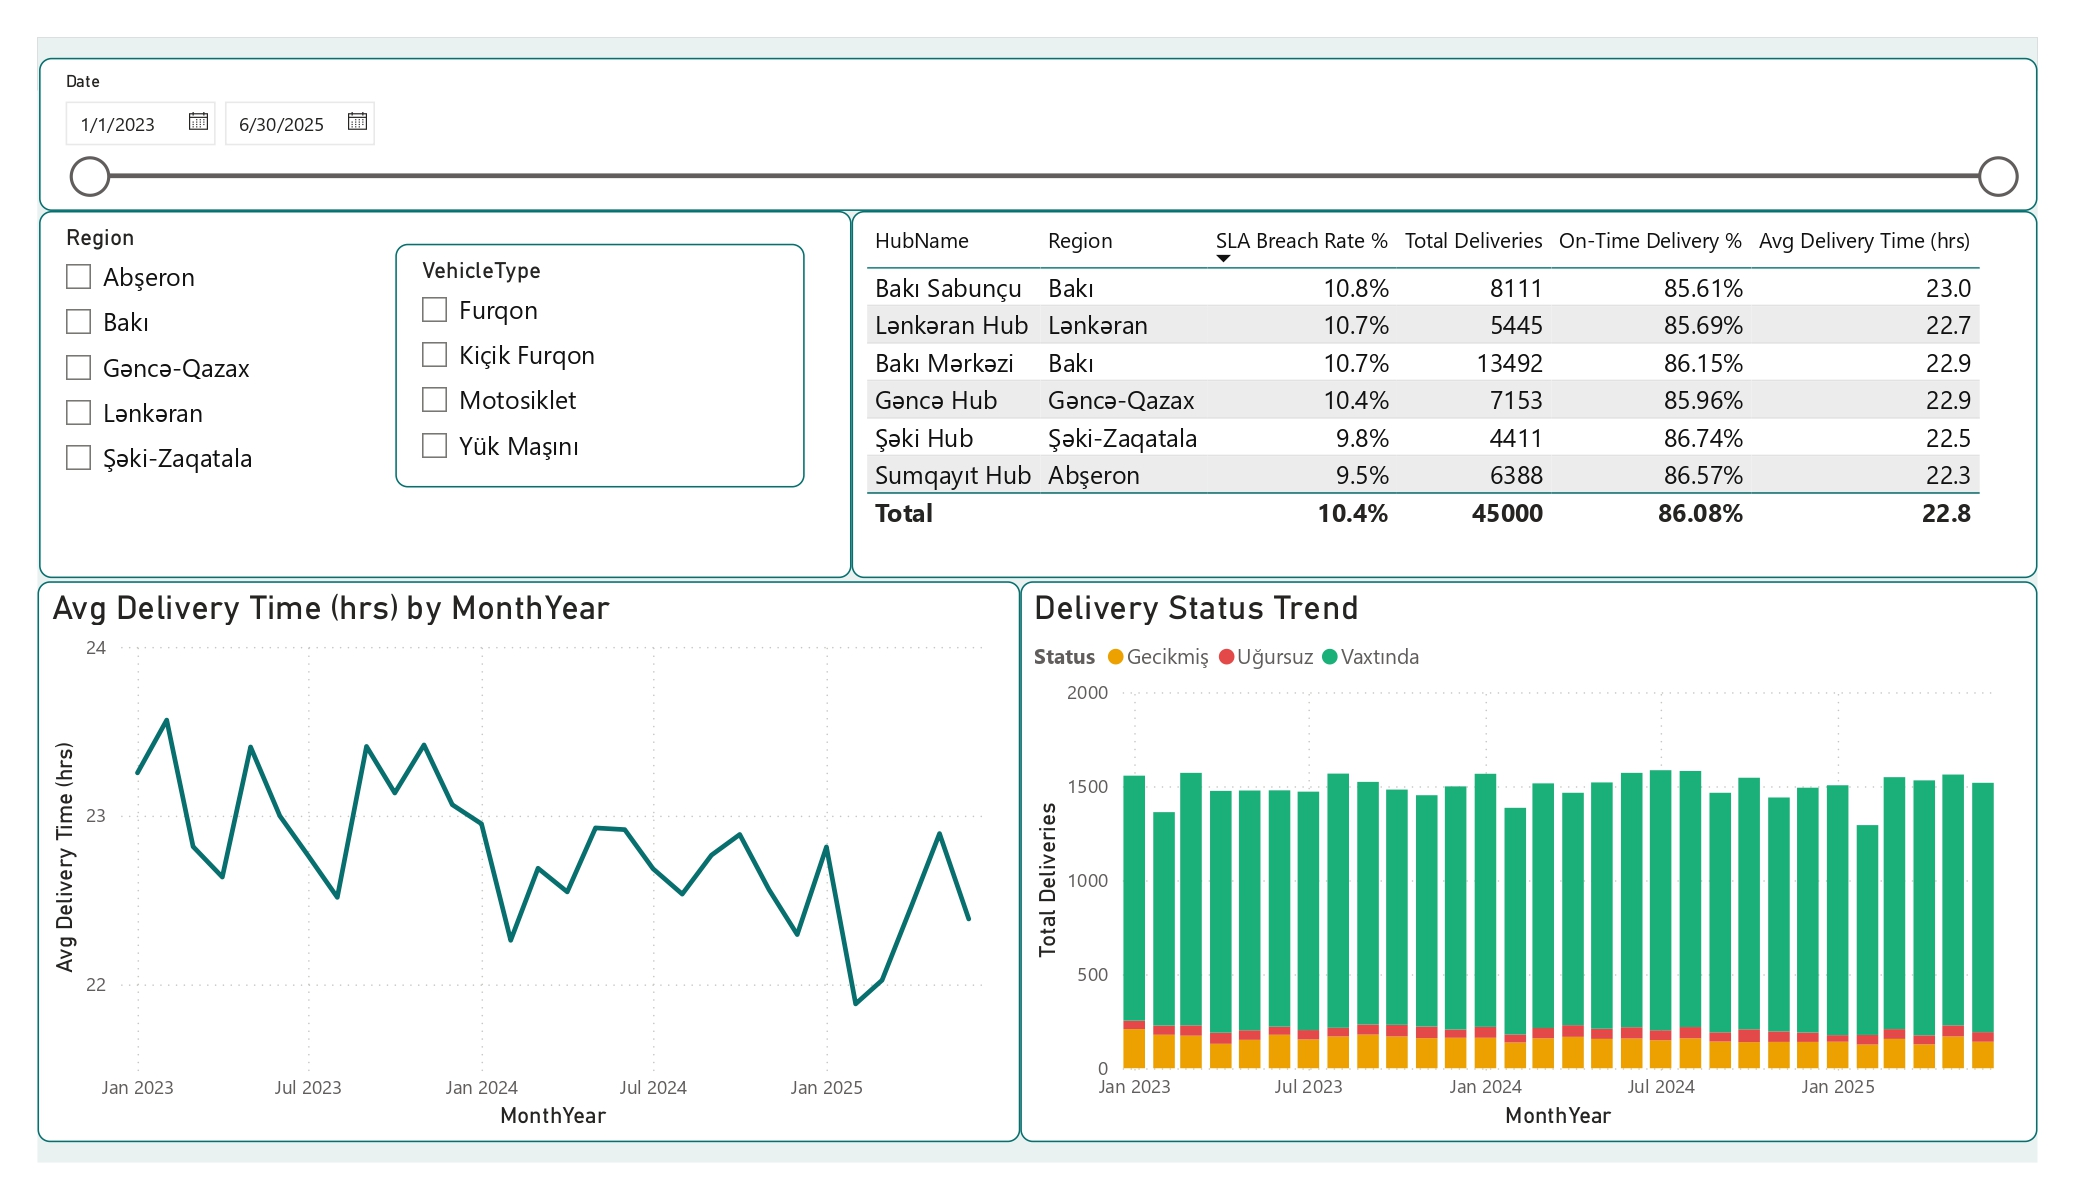

Layout of this report page (visuals, bound fields, positions):
{"tool":"powerbi","page":{"name":"Delivery Performance","canvas":[1280,720],"ordinal":1},"visuals":[{"type":"slicer","fields":{"Values":["dim_hub.Region"]},"box":[1.4,110.9,519.8,234.7],"z":0},{"type":"slicer","fields":{"Values":["dim_vehicle.VehicleType"]},"box":[229,132.5,262.1,155.5],"z":1000},{"type":"slicer","fields":{"Values":["dim_date.Date"]},"box":[1.4,13,1278.7,97.9],"z":2000},{"type":"tableEx","fields":{"Values":["dim_hub.HubName","dim_hub.Region","_Measures.SLA Breach Rate %","_Measures.Total Deliveries","_Measures.On-Time Delivery %","_Measures.Avg Delivery Time (hrs)"]},"box":[521.3,110.9,758.9,234.7],"z":3000},{"type":"columnChart","title":"Delivery Status Trend","fields":{"Series":["fact_deliveries.Status"],"Category":["dim_date.MonthYear"],"Y":["_Measures.Total Deliveries"]},"box":[629.3,348.5,650.9,358.6],"z":4000},{"type":"lineChart","fields":{"Category":["dim_date.MonthYear"],"Y":["_Measures.Avg Delivery Time (hrs)"]},"box":[0,348.5,629.3,358.6],"z":5000}]}

Visuals, with their boxes on the page's 1280x720 design canvas (x1, y1, x2, y2). These are canvas units, not pixel positions in the 2075x1200 screenshot, which may show the page scaled, cropped or inside an application window:
slicer - dim_hub.Region: bbox(1, 111, 521, 346)
slicer - dim_vehicle.VehicleType: bbox(229, 132, 491, 288)
slicer - dim_date.Date: bbox(1, 13, 1280, 111)
tableEx - dim_hub.HubName x dim_hub.Region: bbox(521, 111, 1280, 346)
"Delivery Status Trend" columnChart: bbox(629, 348, 1280, 707)
lineChart - dim_date.MonthYear x _Measures.Avg Delivery Time (hrs): bbox(0, 348, 629, 707)
